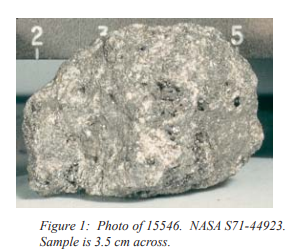Basalt: (47, 36, 248, 184), (129, 73, 240, 148)
